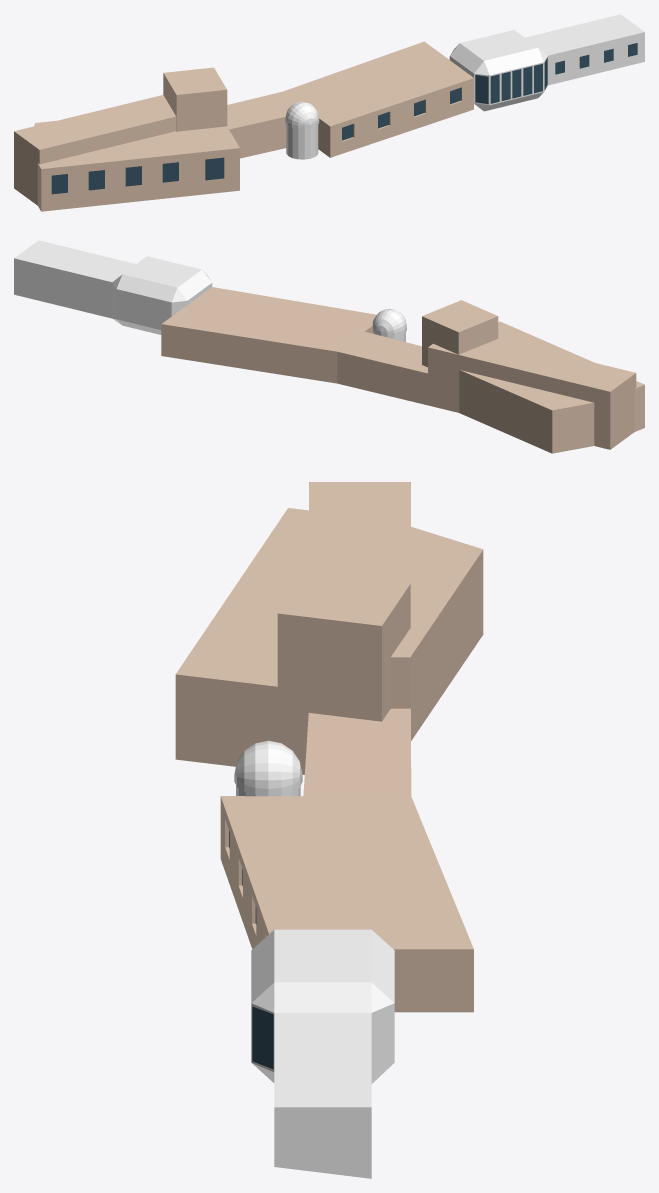
The model's file is PicduMidi_Edificios_Junto_saliente_01.fbx.
3 views of the same model, one above another, from view 1: azimuth 30°, elevation 25°; view 2: azimuth 150°, elevation 25°; view 3: azimuth 270°, elevation 25° (orthographic). The views are drawn at different scales.
Parts seen in each view (by area): view 1: Edificiosjuntoalsaliente, Mirador_bevel, Miniobservatorio; view 2: Edificiosjuntoalsaliente, Mirador_bevel, Miniobservatorio; view 3: Edificiosjuntoalsaliente, Mirador_bevel, Miniobservatorio.
Part boxes in pixels (left/top/right/bottom): Edificiosjuntoalsaliente: left=14, top=41, right=473, bottom=211; Mirador_bevel: left=449, top=14, right=644, bottom=111; Miniobservatorio: left=285, top=101, right=319, bottom=159; Edificiosjuntoalsaliente: left=161, top=287, right=644, bottom=453; Mirador_bevel: left=14, top=240, right=212, bottom=334; Miniobservatorio: left=372, top=308, right=406, bottom=341; Edificiosjuntoalsaliente: left=175, top=482, right=483, bottom=1012; Mirador_bevel: left=251, top=929, right=394, bottom=1178; Miniobservatorio: left=234, top=740, right=302, bottom=796.
Bounding box in the file's own units: 9956 × 1326 × 2211.
